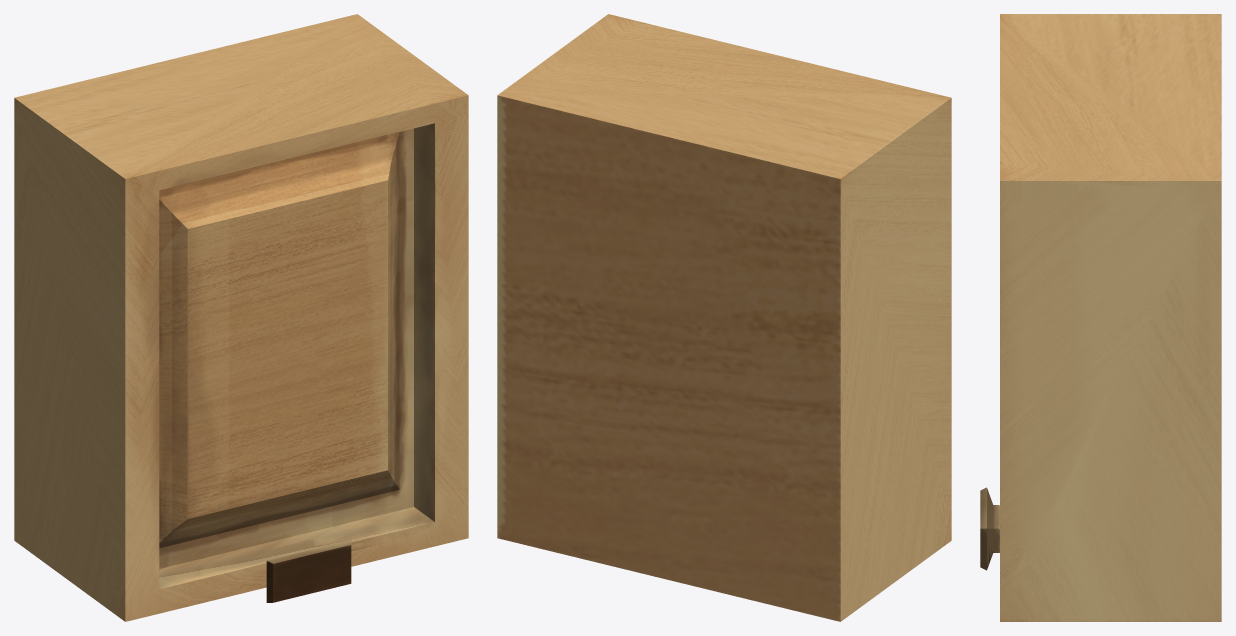
File: FurnitureLong.fbx
The picture shows the model from 3 angles, left to right: view 1: azimuth 30°, elevation 25°; view 2: azimuth 150°, elevation 25°; view 3: azimuth 270°, elevation 25°; orthographic projection.
Parts seen in each view (by area): view 1: Long_Furniture; view 2: Long_Furniture; view 3: Long_Furniture.
Part boxes in pixels (<box>): Long_Furniture: <box>14,14,468,621</box>; Long_Furniture: <box>497,14,951,621</box>; Long_Furniture: <box>980,14,1221,621</box>.
Size of the model in its own units: 162 by 204 by 99.07.
